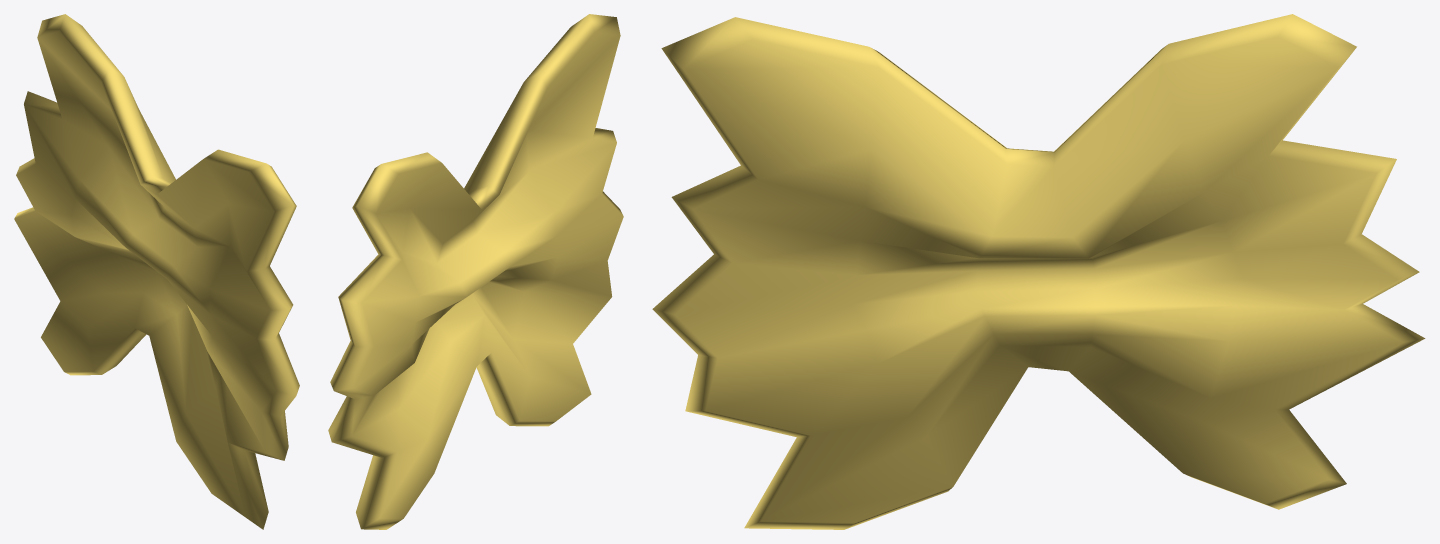
Rendered from Pasta1.fbx.
3 renders of one model, left to right at view 1: azimuth 30°, elevation 25°; view 2: azimuth 150°, elevation 25°; view 3: azimuth 270°, elevation 25°, orthographic. The views are drawn at different scales.
Parts seen in each view (by area): view 1: pasta1; view 2: pasta1; view 3: pasta1.
Boxes of the visible parts, left/top/right/bottom form: pasta1: left=14, top=14, right=299, bottom=529; pasta1: left=328, top=14, right=623, bottom=529; pasta1: left=652, top=14, right=1425, bottom=529.
Size of the model in its own units: 6.78 by 44.19 by 60.02.
